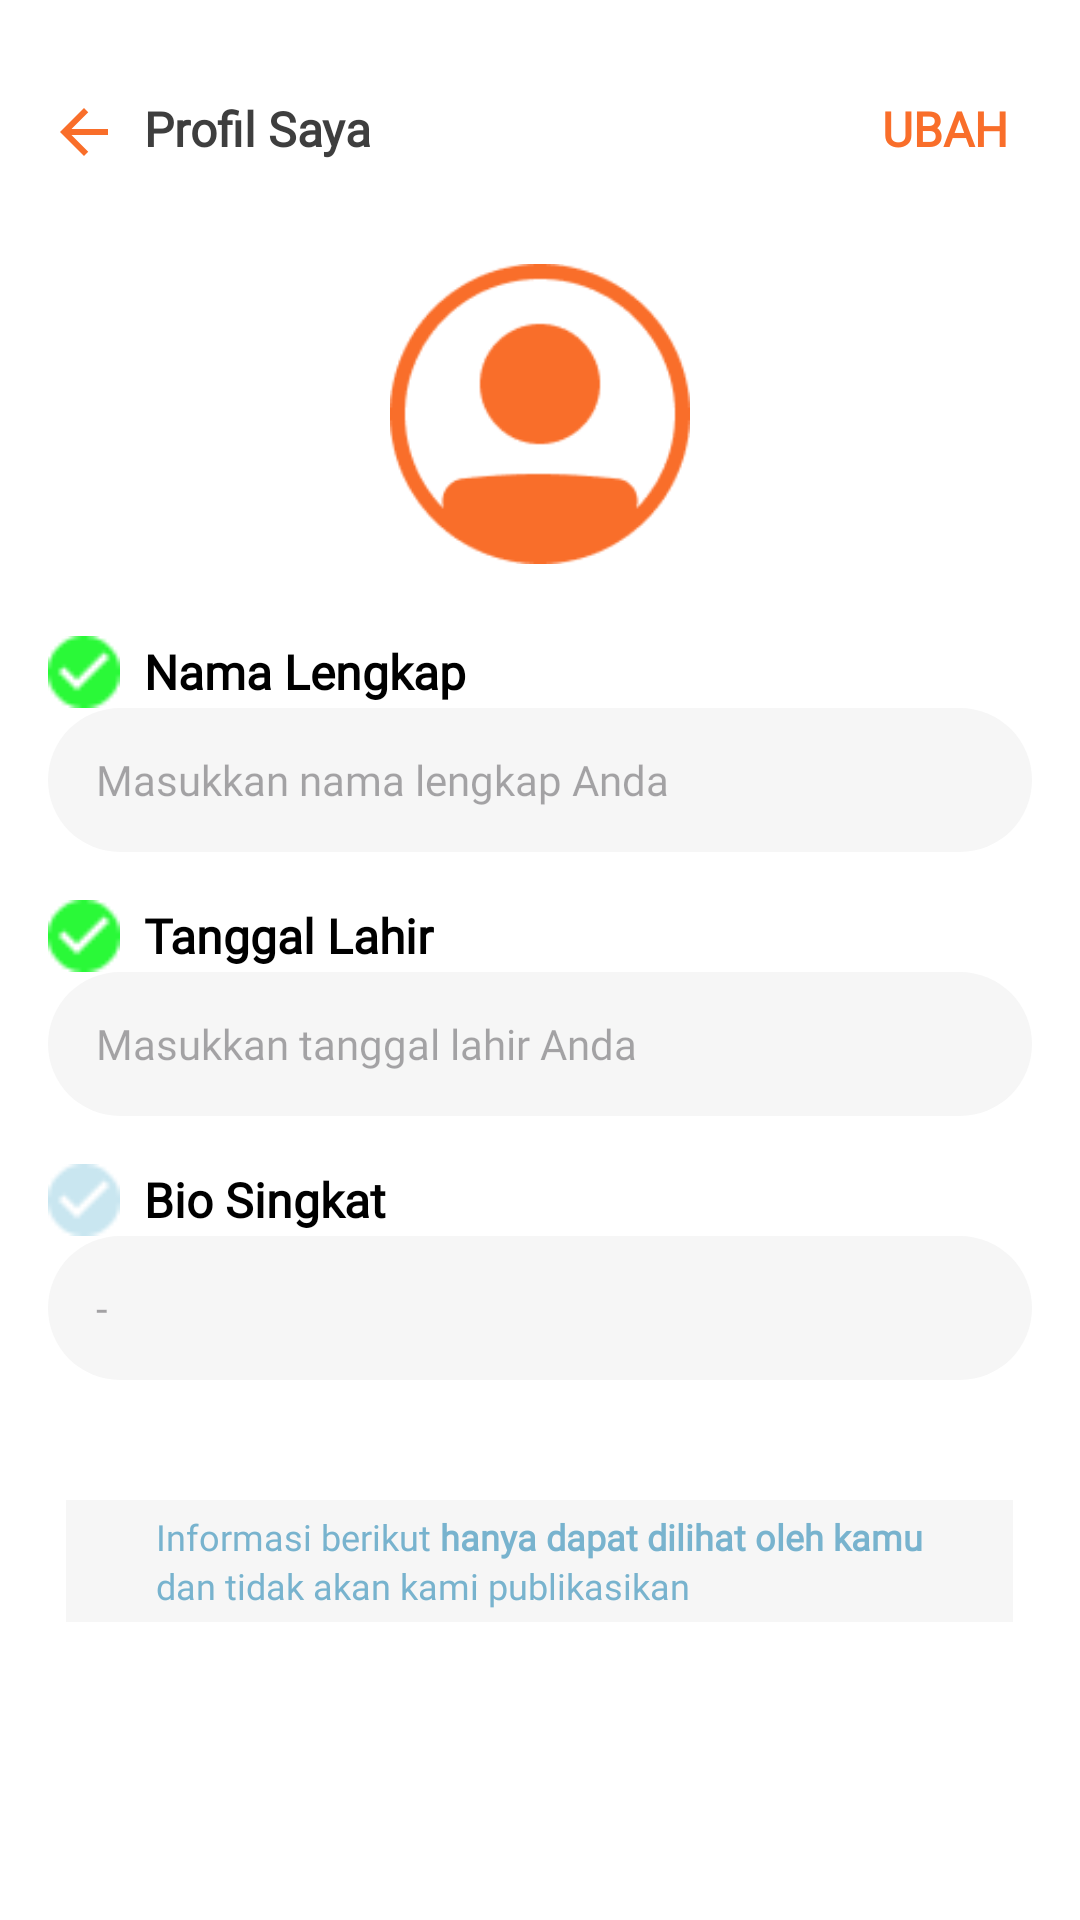

Screen size 1080px×1920px. Icon name, then its center in pixels as (x,y):
Back Button: (84,132)
check: (84,672), (84,936), (84,1200)
Profile Image: (540,414)
